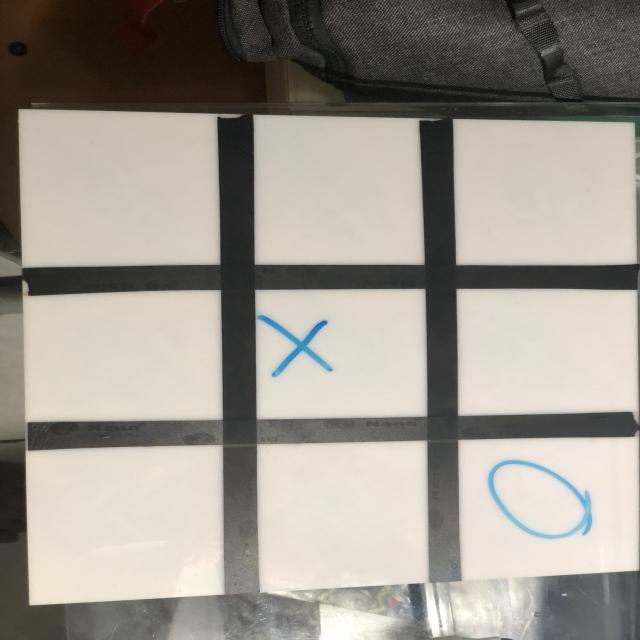null: (19, 438, 233, 607), (14, 108, 218, 270), (451, 115, 639, 267), (257, 438, 440, 592), (248, 113, 423, 271), (22, 289, 225, 422), (458, 289, 640, 416)
o: (477, 455, 597, 541)
x: (257, 314, 338, 378)
